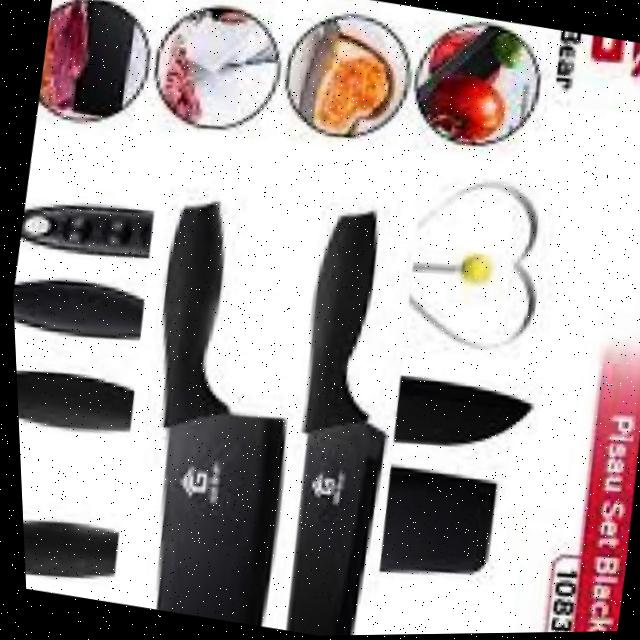knife: (99, 190, 329, 629), (248, 204, 424, 637)
